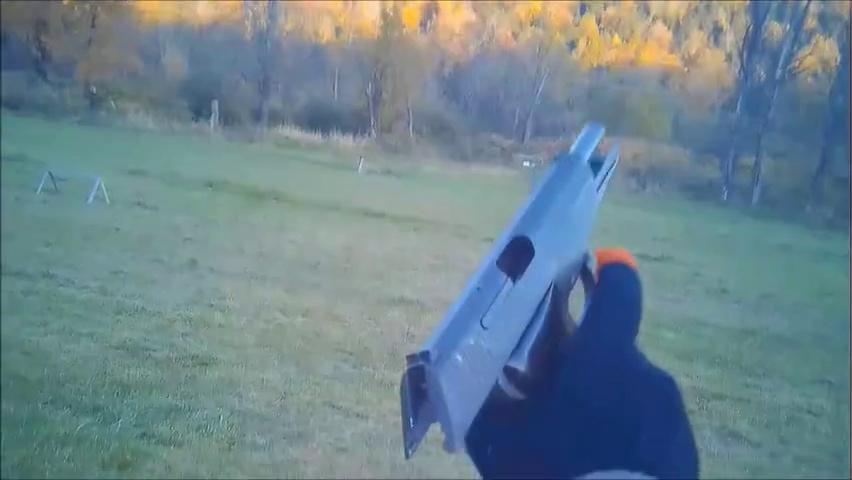gun: (391, 117, 648, 480)
